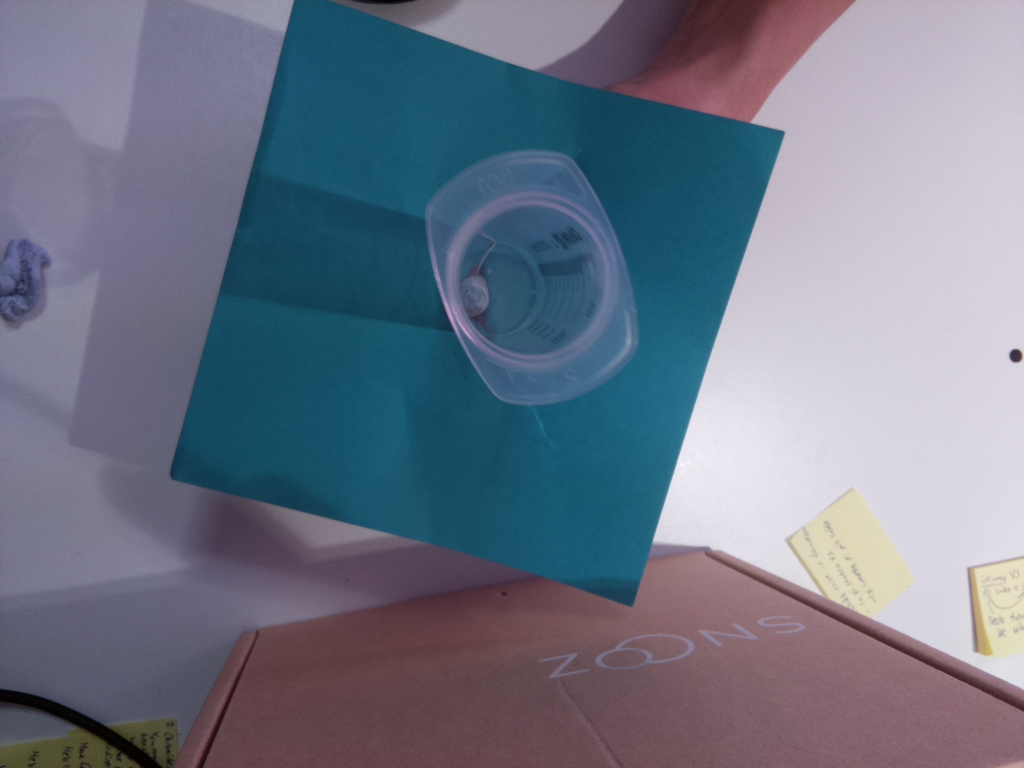clean: (423, 148, 640, 408)
